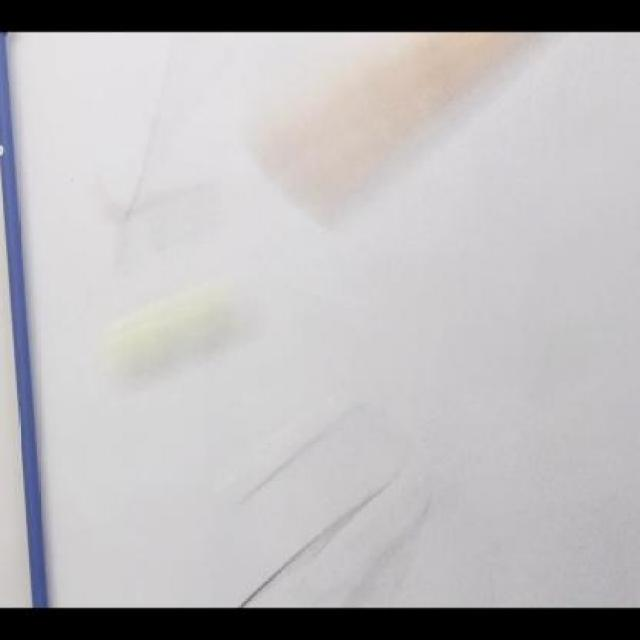baseball: (100, 272, 268, 381)
